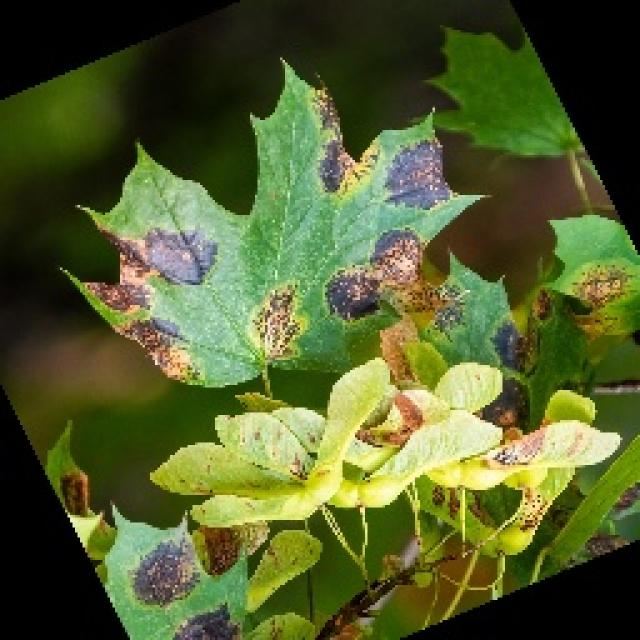Tar_Spot: (129, 61, 490, 605), (97, 500, 255, 638)
